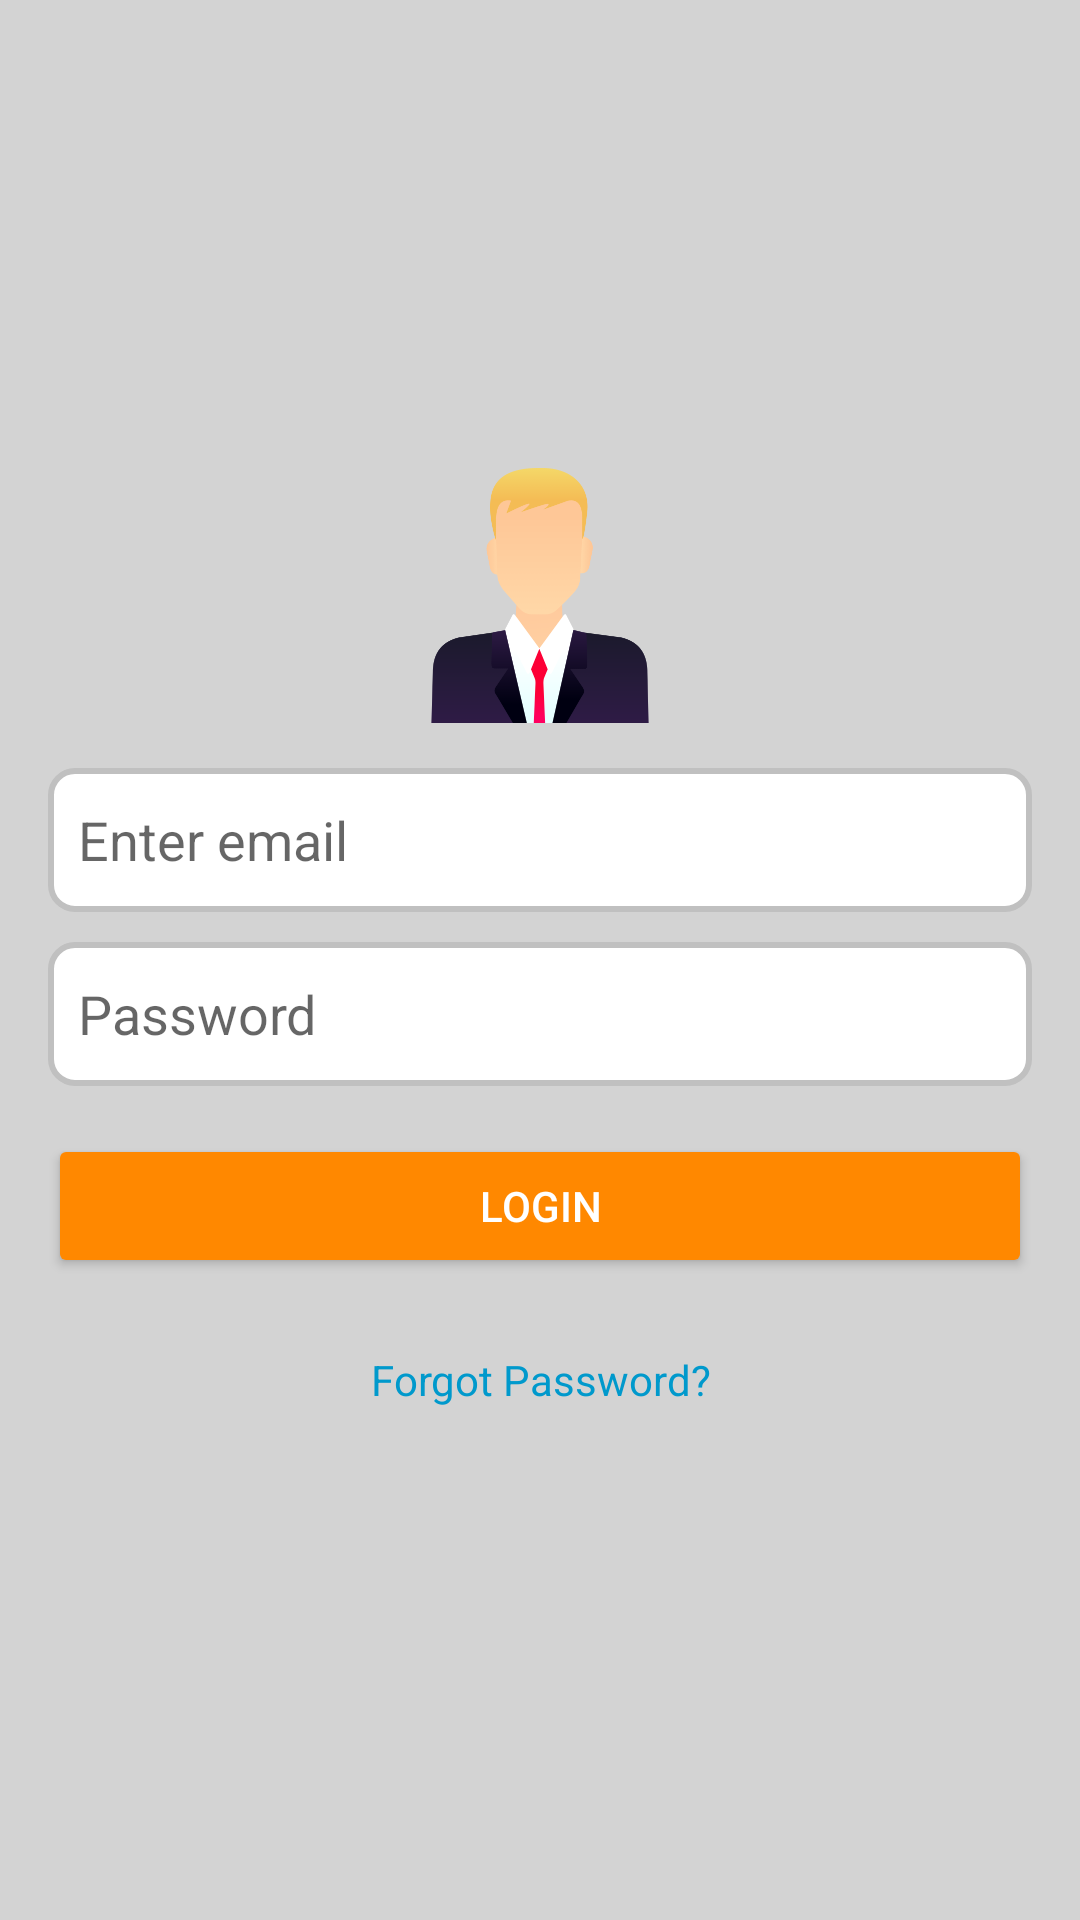

Icon click points for this 1080 x 1920 phone screenshot, format [x,y]:
user: [540,595]
